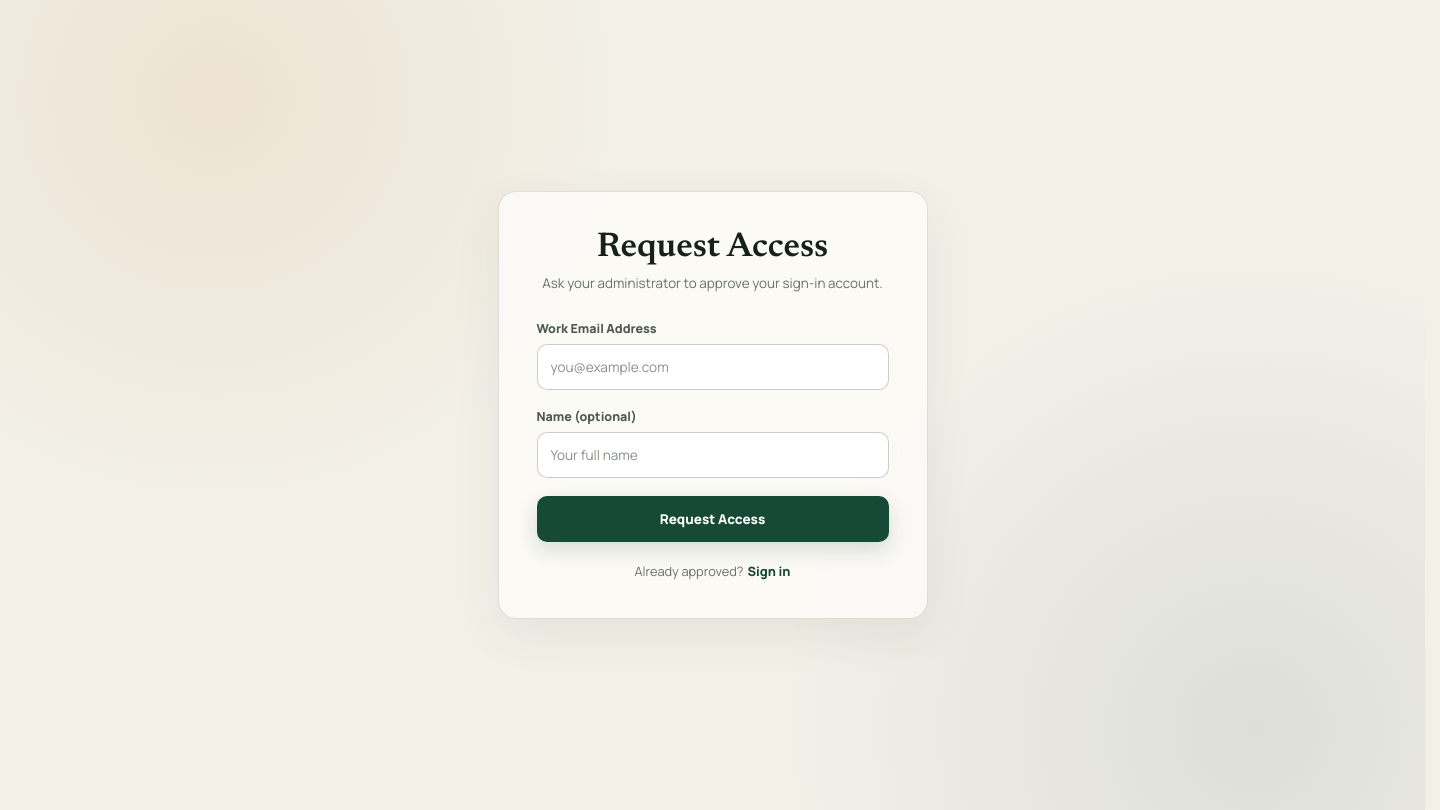
Scenario: authentication pages › submits a request-access form and shows backend success message
This screenshot has width=1440, height=810.
Type "new.user@example.com" into the field labelled "Work Email Address". click: {"x": 712, "y": 367}
box: x1=536 y1=344 x2=888 y2=390
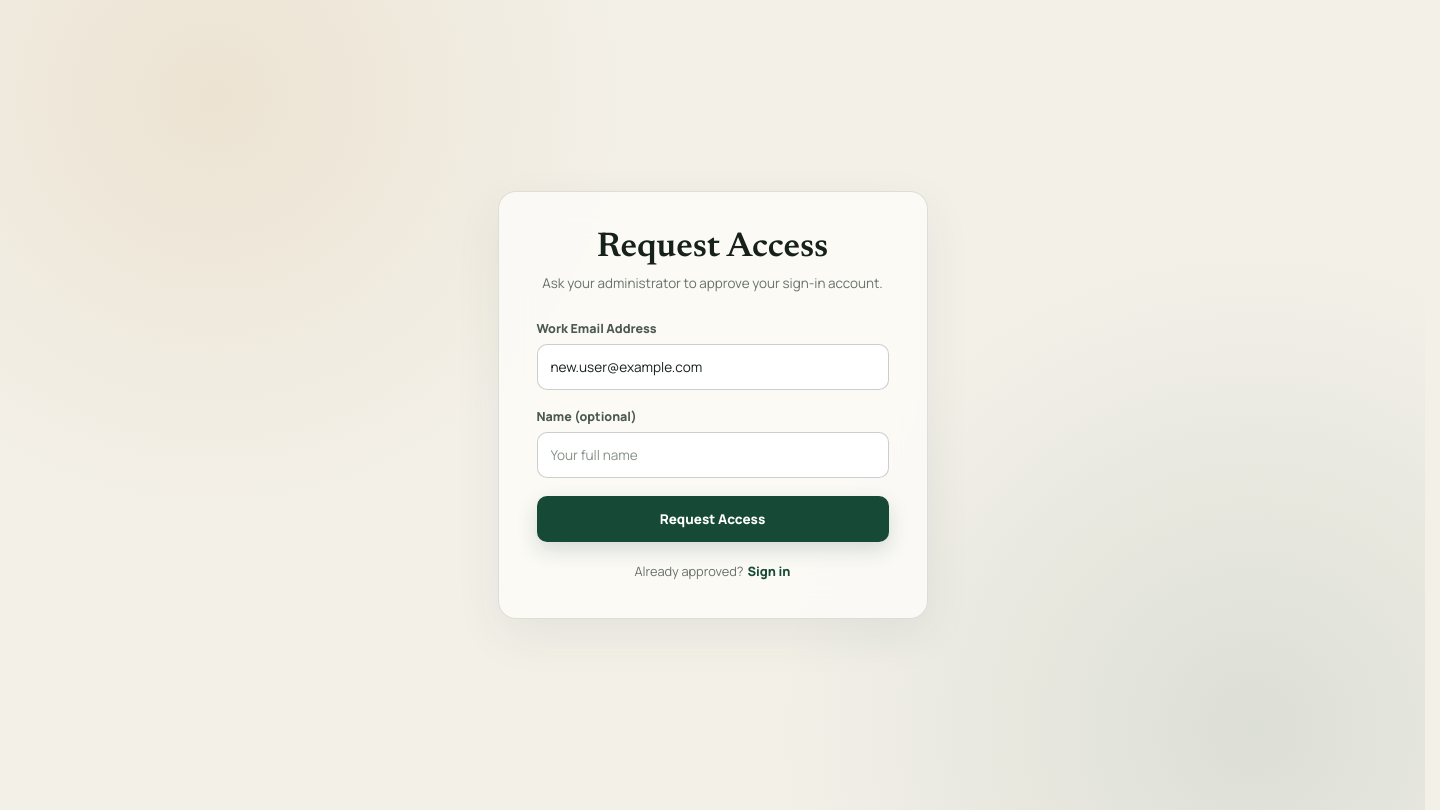
Type "New User" into the field labelled "Name (optional)". click: {"x": 712, "y": 455}
box: x1=536 y1=432 x2=888 y2=478
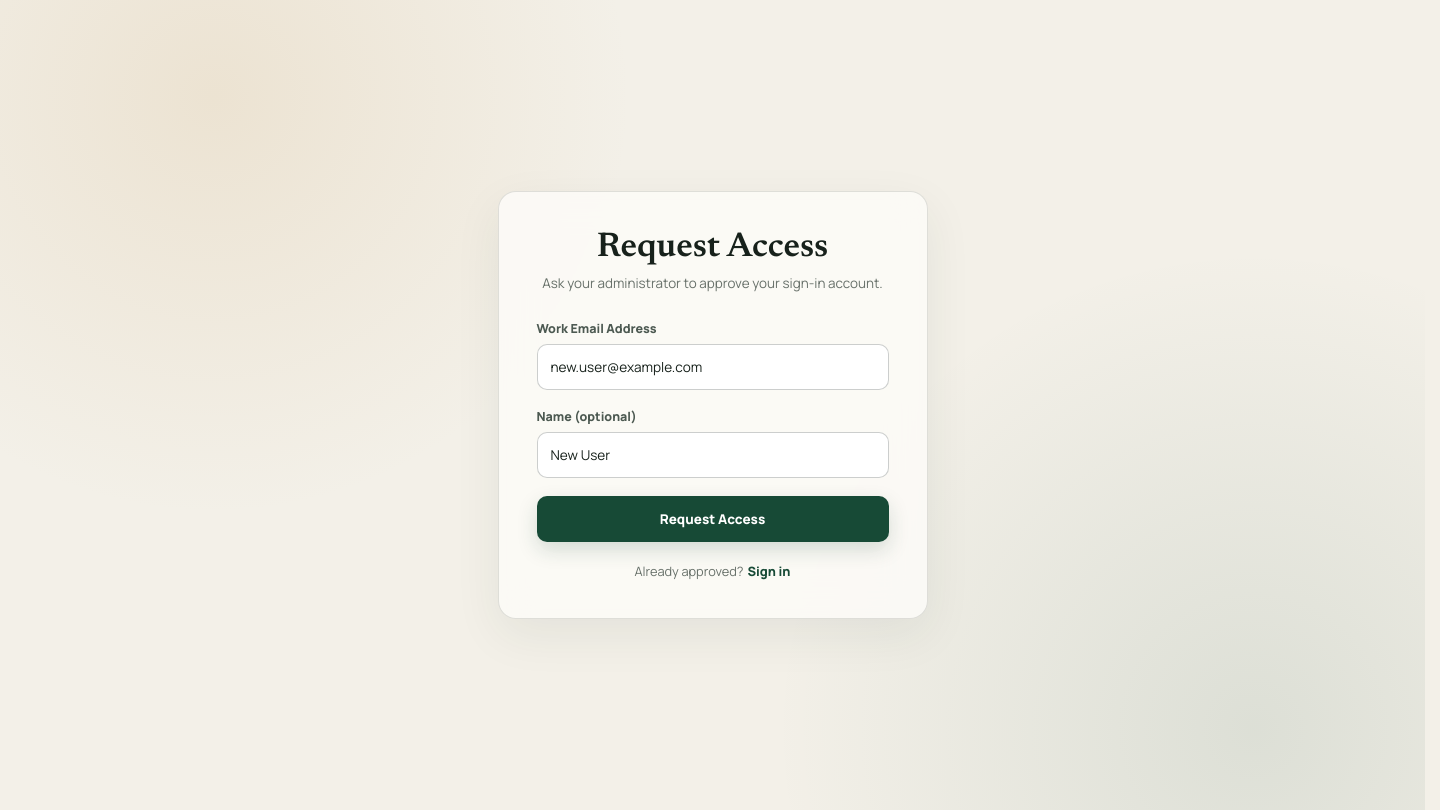
Click the button "Request Access". click: {"x": 712, "y": 519}
box: x1=536 y1=496 x2=888 y2=542
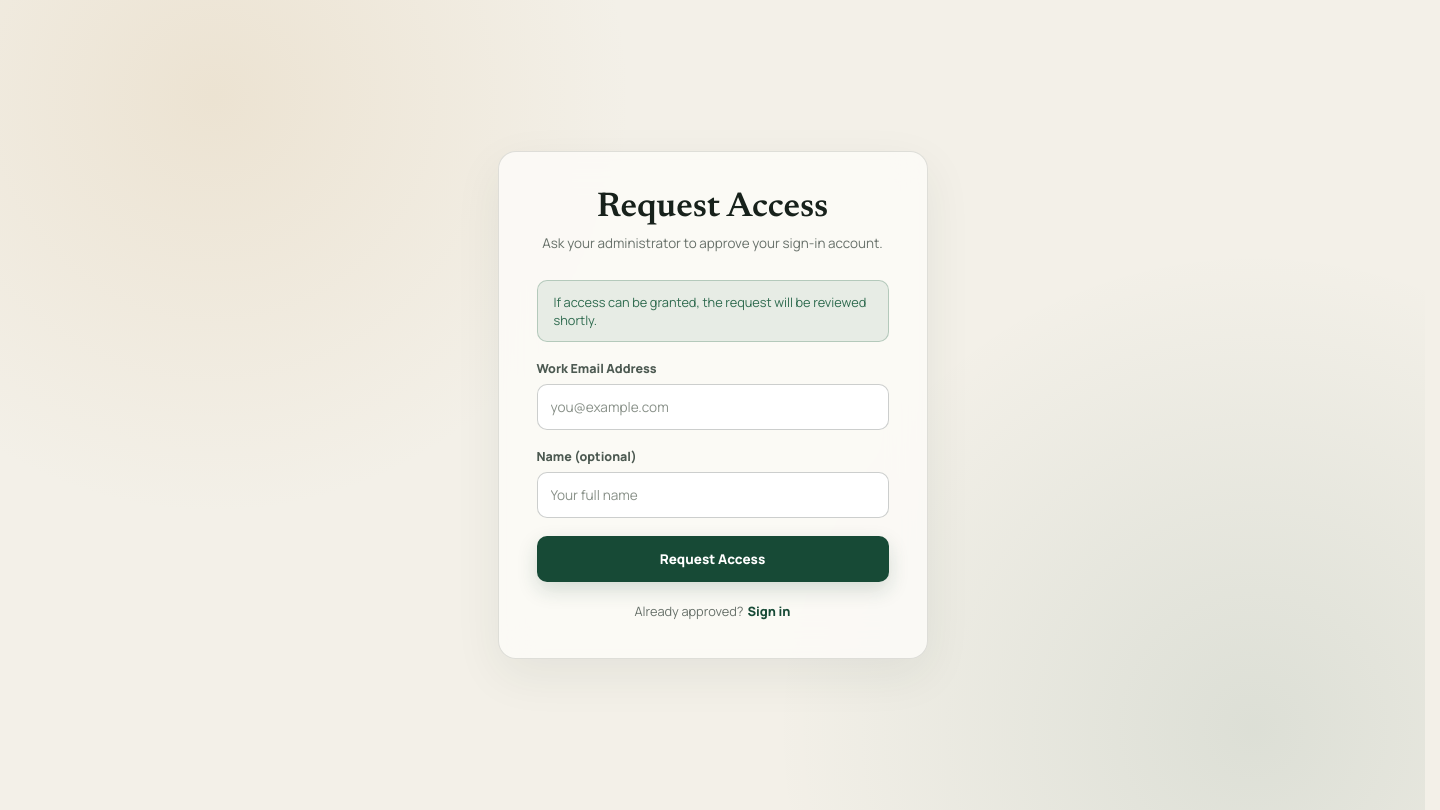
Check: the text "If access can be granted, the request will be reviewed shortly." is shown, box x1=536 y1=280 x2=888 y2=342
